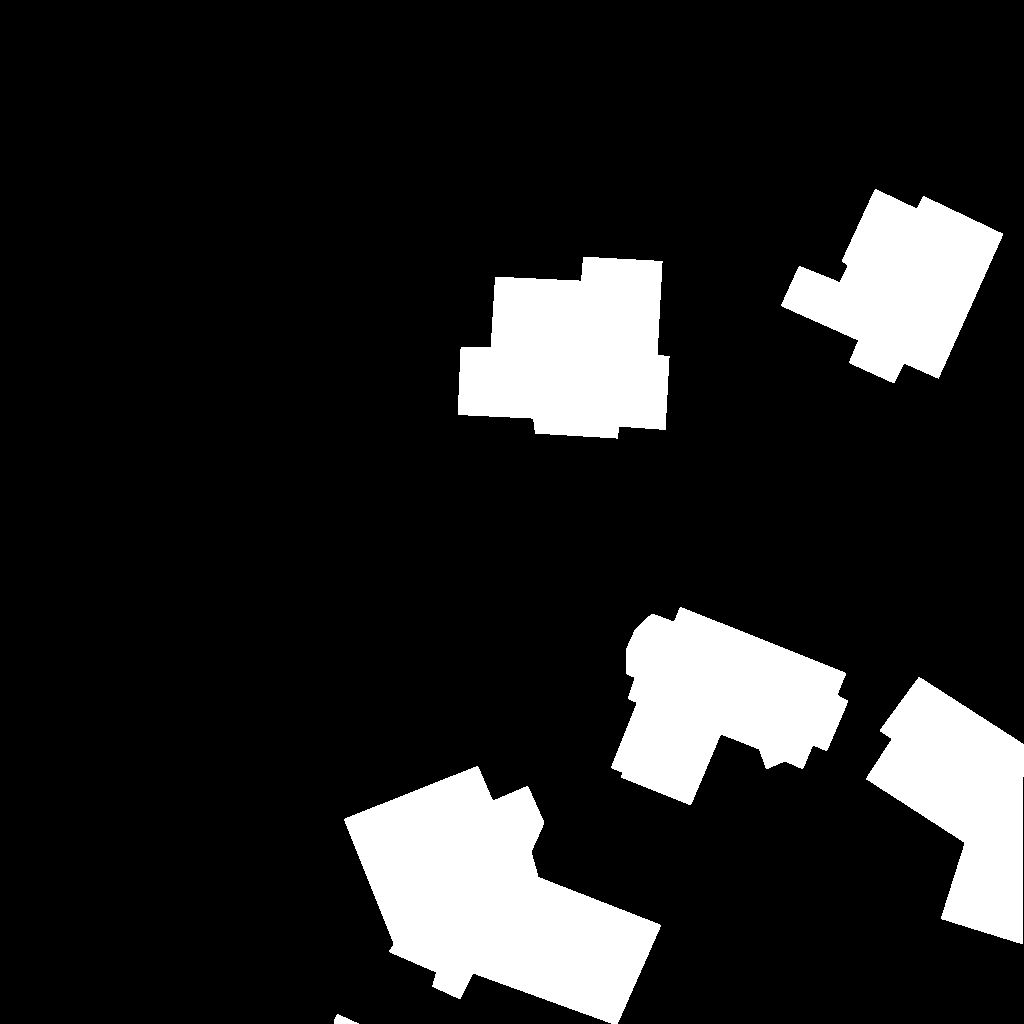building: (344, 766, 662, 1024), (611, 607, 849, 806), (781, 189, 1004, 384), (866, 677, 1024, 945), (458, 257, 670, 439), (334, 1014, 360, 1024)
